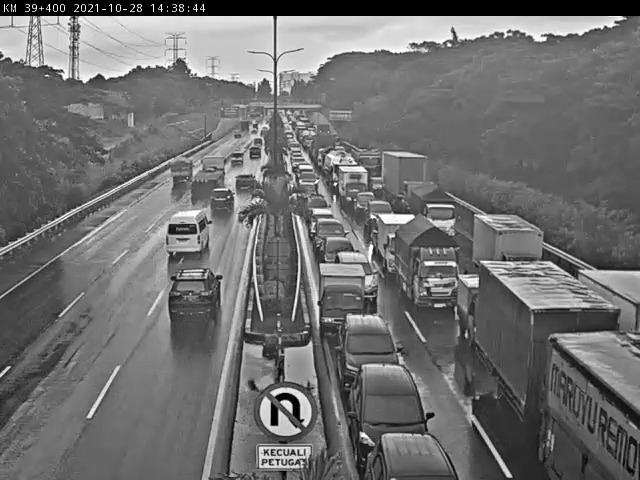big truck: (479, 259, 626, 446), (188, 156, 228, 196)
car: (349, 364, 436, 463), (335, 314, 399, 398), (363, 433, 460, 480), (168, 266, 223, 325), (335, 252, 380, 302), (165, 210, 210, 257), (319, 236, 360, 277), (312, 218, 350, 257), (367, 199, 395, 231), (309, 207, 334, 237), (209, 188, 235, 216), (355, 191, 376, 216), (235, 173, 257, 193), (229, 151, 244, 166)
small truck: (393, 215, 462, 312), (472, 214, 542, 296), (458, 274, 521, 351), (317, 261, 369, 337), (377, 212, 420, 277), (380, 151, 426, 210), (409, 178, 451, 238), (339, 165, 369, 207), (167, 157, 191, 187)
